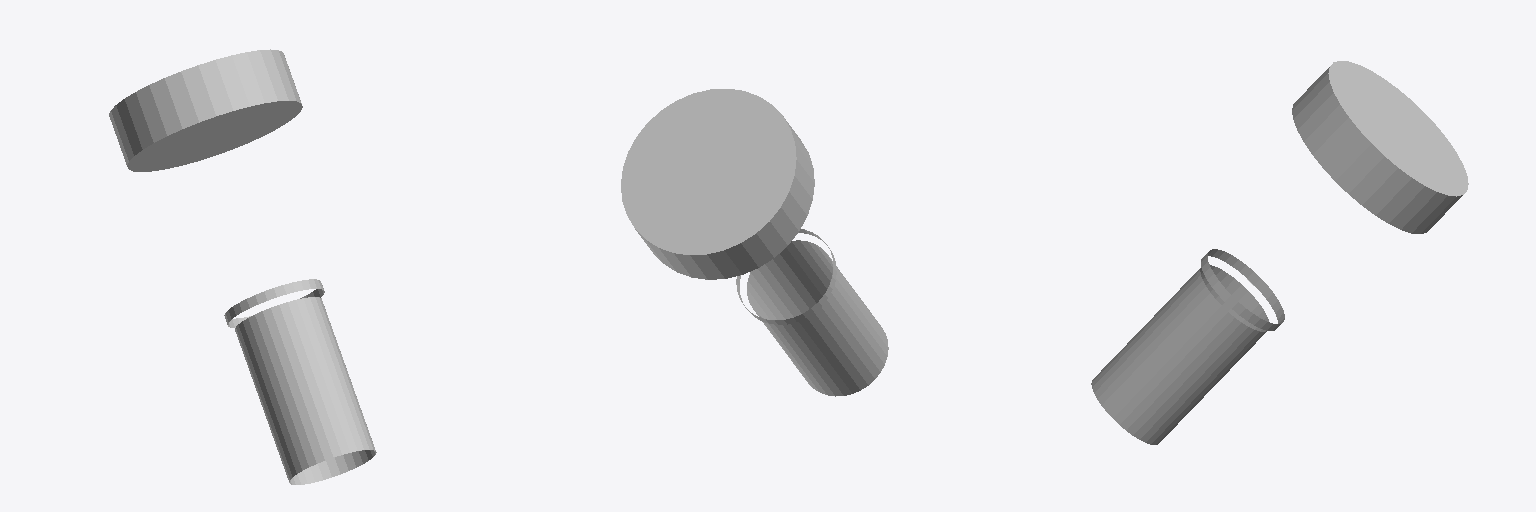
The model's file is EngineBody3.obj.
The picture shows the model from 3 angles: view 1: azimuth 30°, elevation 25°; view 2: azimuth 150°, elevation 25°; view 3: azimuth 270°, elevation 25°; orthographic projection.
Parts seen in each view (by area): view 1: VaccumCleanerBody1_Cylinder.012; view 2: VaccumCleanerBody1_Cylinder.012; view 3: VaccumCleanerBody1_Cylinder.012.
Part boxes in pixels (left/top/right/bottom): VaccumCleanerBody1_Cylinder.012: left=109, top=49, right=376, bottom=484; VaccumCleanerBody1_Cylinder.012: left=621, top=89, right=888, bottom=396; VaccumCleanerBody1_Cylinder.012: left=1091, top=61, right=1468, bottom=444.
Bounding box in the file's own units: 0.4498 × 0.9747 × 0.9113.